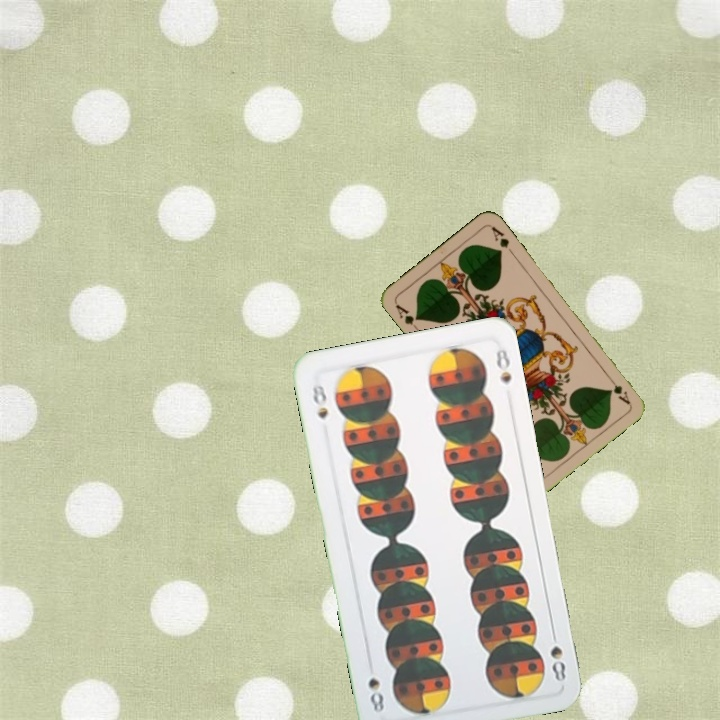GA: (391, 300, 422, 334), (603, 372, 633, 407)
S8: (546, 625, 568, 685), (308, 379, 330, 422)
